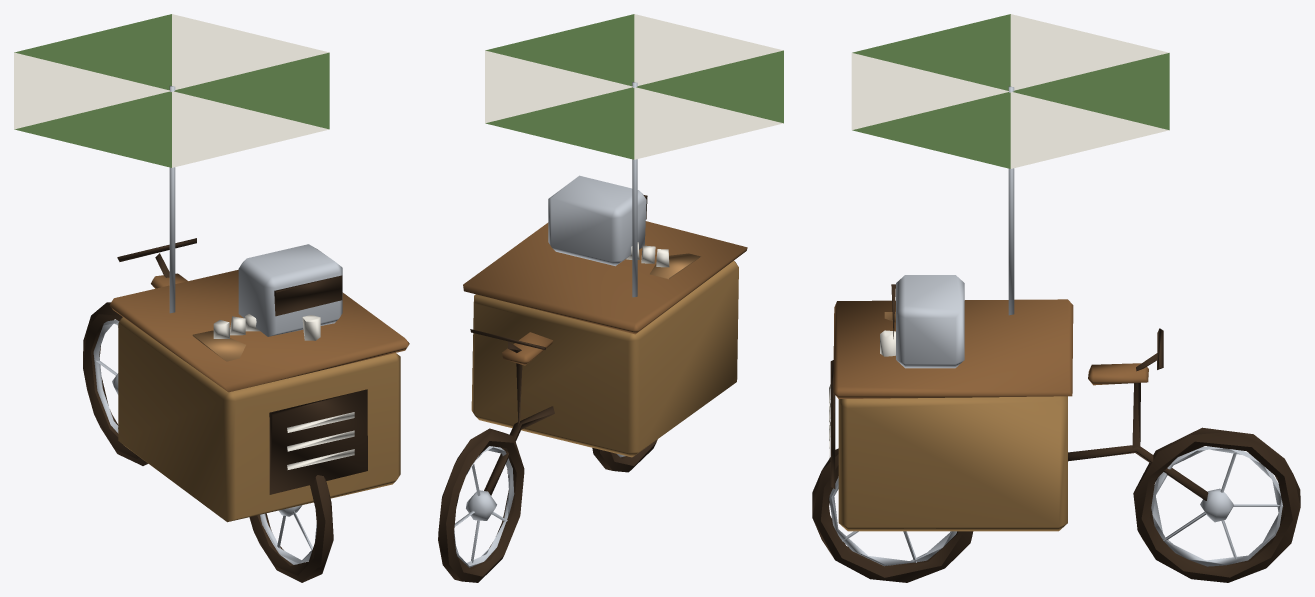
Rendered from coffee_cart.glb.
3 renders of one model, left to right at view 1: azimuth 30°, elevation 25°; view 2: azimuth 150°, elevation 25°; view 3: azimuth 270°, elevation 25°, orthographic. The views are drawn at different scales.
Parts seen in each view (by area): view 1: coffee_cart; view 2: coffee_cart; view 3: coffee_cart.
Boxes of the visible parts, box(x1,y1,x2,y2) form: coffee_cart: box(14, 14, 409, 582); coffee_cart: box(438, 14, 783, 582); coffee_cart: box(812, 14, 1300, 582).
Size of the model in its own units: 1.6 by 2.24 by 2.13.
